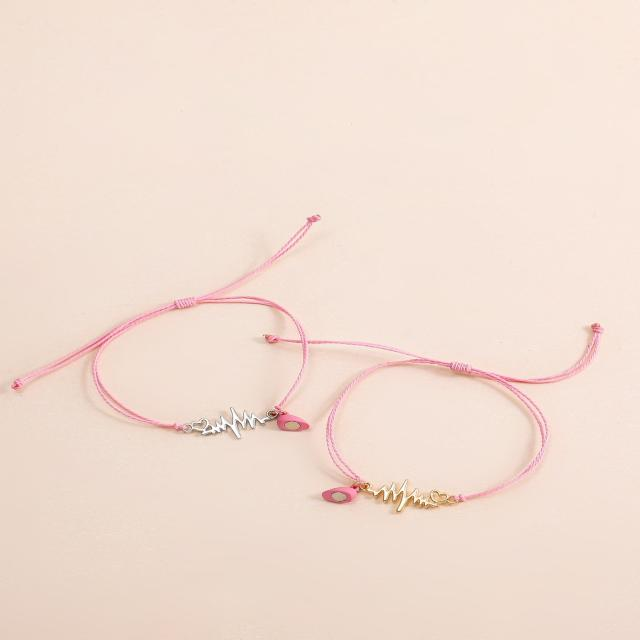bracelet: (296, 310, 640, 589), (0, 210, 307, 510)
